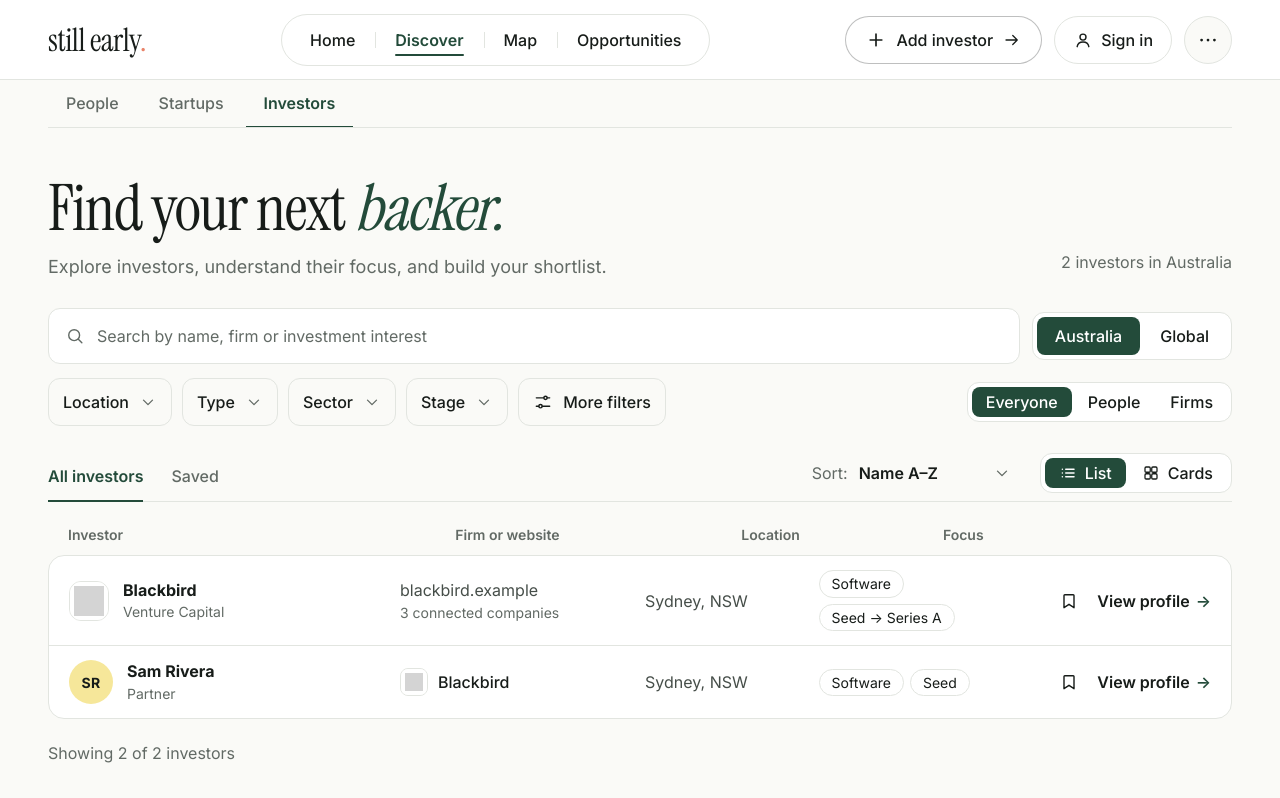
Test: a person opened beside the results › presents a directory profile, never a member, a partner, an endorser or a way to be introduced
The image size is (1280, 798).
Click the link "Sam Rivera" at coordinates (171, 672), box [127,661,214,682]
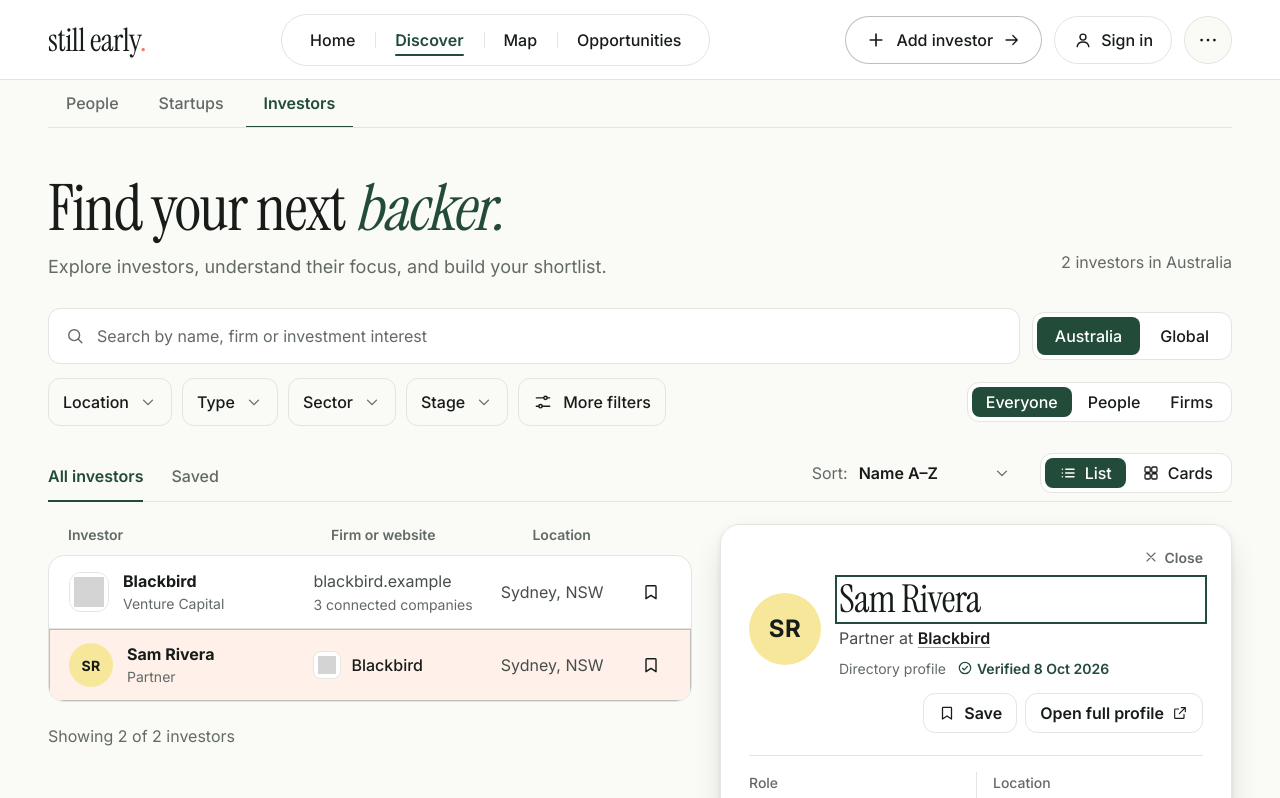
Result: the text "Directory profile" is shown at [839,658,946,679]
